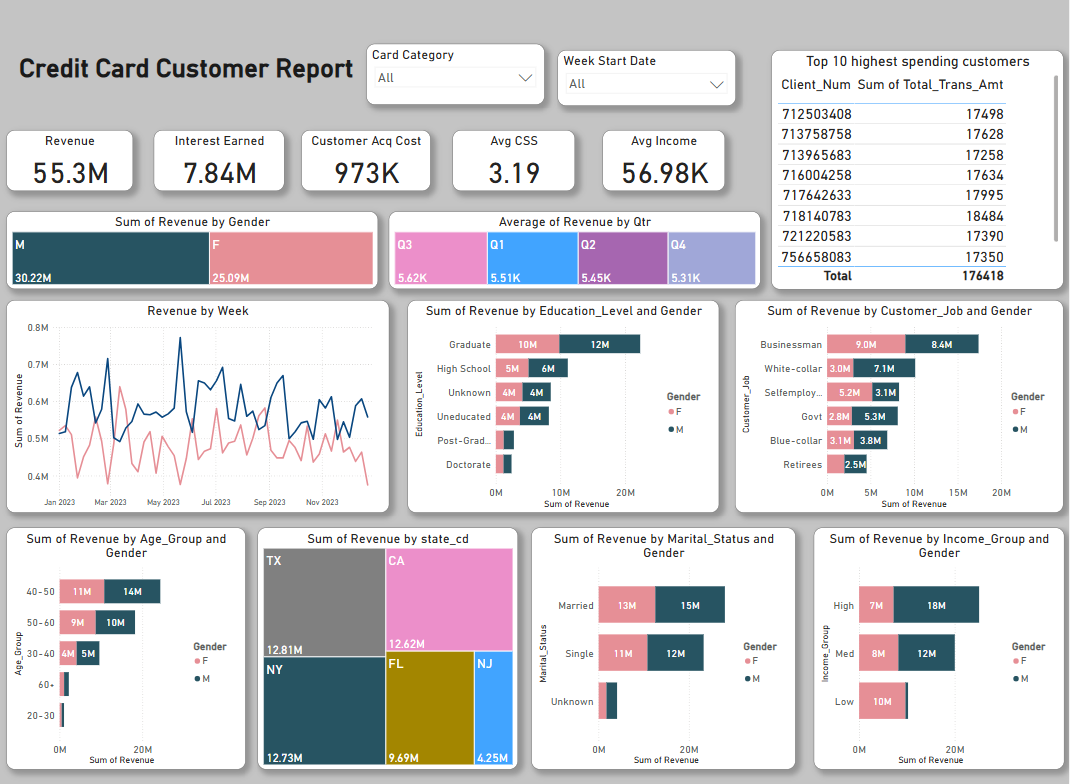

The page's visual inventory and layout, read from the dashboard file:
{"tool":"powerbi","page":{"name":"Customer Report","canvas":[2000,1500],"ordinal":1},"visuals":[{"type":"barChart","fields":{"Category":["ccdb cust_detail.Customer_Job"],"Y":["Sum(ccdb cc_details.Revenue)"],"Series":["ccdb cust_detail.Gender"]},"box":[1378.2,595.9,611.4,396.4],"z":0},{"type":"barChart","fields":{"Category":["ccdb cust_detail.Marital_Status"],"Y":["Sum(ccdb cc_details.Revenue)"],"Series":["ccdb cust_detail.Gender"]},"box":[997.4,1018.1,492.2,450.8],"z":1000},{"type":"barChart","fields":{"Category":["ccdb cust_detail.Education_Level"],"Y":["Sum(ccdb cc_details.Revenue)"],"Series":["ccdb cust_detail.Gender"]},"box":[766.8,595.9,580.3,396.4],"z":2000},{"type":"barChart","fields":{"Category":["ccdb cust_detail.Income_Group"],"Y":["Sum(ccdb cc_details.Revenue)"],"Series":["ccdb cust_detail.Gender"]},"box":[1523.3,1018.1,466.3,450.8],"z":3000},{"type":"barChart","fields":{"Category":["ccdb cust_detail.Age_Group"],"Y":["Sum(ccdb cc_details.Revenue)"],"Series":["ccdb cust_detail.Gender"]},"box":[20.7,1018.1,445.6,450.8],"z":4000},{"type":"treemap","fields":{"Group":["ccdb cust_detail.Gender"],"Values":["Sum(ccdb cc_details.Revenue)"]},"box":[20.7,430.1,691.7,145.1],"z":5000},{"type":"treemap","fields":{"Group":["ccdb cust_detail.state_cd"],"Values":["Sum(ccdb cc_details.Revenue)"]},"box":[489.6,1018.1,484.5,450.8],"z":6000},{"type":"card","title":"Revenue","fields":{"Values":["Sum(ccdb cc_details.Revenue)"]},"box":[20.7,279.8,235.8,114],"z":7000},{"type":"card","title":"Customer Acq Cost","fields":{"Values":["Sum(ccdb cc_details.Customer_Acq_Cost)"]},"box":[569.9,279.8,240.9,114],"z":8000},{"type":"card","title":"Interest Earned","fields":{"Values":["Sum(ccdb cc_details.Interest_Earned)"]},"box":[295.3,279.8,243.5,114],"z":9000},{"type":"treemap","fields":{"Group":["ccdb cc_details.Qtr"],"Values":["Avg(ccdb cc_details.Revenue)"]},"box":[733.2,430.1,691.7,145.1],"z":10000},{"type":"slicer","title":"Week Start Date","fields":{"Values":["ccdb cc_details.Week_Start_Date"]},"box":[1046.6,129.5,331.6,103.6],"z":11000},{"type":"lineChart","title":"Revenue by Week","fields":{"Y":["Sum(ccdb cc_details.Revenue)"],"Category":["ccdb cc_details.Week_Start_Date.Variation.Date Hierarchy.Year","ccdb cc_details.Week_Start_Date.Variation.Date Hierarchy.Quarter","ccdb cc_details.Week_Start_Date.Variation.Date Hierarchy.Month","ccdb cc_details.Week_Start_Date.Variation.Date Hierarchy.Day"],"Series":["ccdb cust_detail.Gender"]},"box":[20.7,595.9,712.4,396.4],"z":12000},{"type":"textbox","box":[0,129.5,712.4,67.4],"z":13000},{"type":"card","title":"Avg CSS","fields":{"Values":["Avg(ccdb cust_detail.Customer_Satisfaction_Score)"]},"box":[852.3,279.8,228,114],"z":14000},{"type":"tableEx","title":"Top 10 highest spending customers","fields":{"Values":["ccdb cc_details.Client_Num","Sum(ccdb cc_details.Total_Trans_Amt)"]},"box":[1445.6,129.5,544,445.6],"z":15000},{"type":"card","title":"Avg Income","fields":{"Values":["Avg(ccdb cust_detail.Income)"]},"box":[1129.5,279.8,228,114],"z":16000},{"type":"slicer","title":"Card Category","fields":{"Values":["ccdb cc_details.Card_Category"]},"box":[691.7,119.2,331.6,114],"z":17000}]}

Visuals, with their boxes in screenshot pixels (x1, y1, x2, y2), scaled from the page's 2000x1500 canvas onto the 1070x784 screenshot:
barChart - ccdb cust_detail.Customer_Job x Sum(ccdb cc_details.Revenue): box=[737, 311, 1064, 519]
barChart - ccdb cust_detail.Marital_Status x Sum(ccdb cc_details.Revenue): box=[534, 532, 797, 768]
barChart - ccdb cust_detail.Education_Level x Sum(ccdb cc_details.Revenue): box=[410, 311, 721, 519]
barChart - ccdb cust_detail.Income_Group x Sum(ccdb cc_details.Revenue): box=[815, 532, 1064, 768]
barChart - ccdb cust_detail.Age_Group x Sum(ccdb cc_details.Revenue): box=[11, 532, 249, 768]
treemap - ccdb cust_detail.Gender x Sum(ccdb cc_details.Revenue): box=[11, 225, 381, 301]
treemap - ccdb cust_detail.state_cd x Sum(ccdb cc_details.Revenue): box=[262, 532, 521, 768]
"Revenue" card: box=[11, 146, 137, 206]
"Customer Acq Cost" card: box=[305, 146, 434, 206]
"Interest Earned" card: box=[158, 146, 288, 206]
treemap - ccdb cc_details.Qtr x Avg(ccdb cc_details.Revenue): box=[392, 225, 762, 301]
"Week Start Date" slicer: box=[560, 68, 737, 122]
"Revenue by Week" lineChart: box=[11, 311, 392, 519]
textbox: box=[0, 68, 381, 103]
"Avg CSS" card: box=[456, 146, 578, 206]
"Top 10 highest spending customers" tableEx: box=[773, 68, 1064, 301]
"Avg Income" card: box=[604, 146, 726, 206]
"Card Category" slicer: box=[370, 62, 547, 122]
